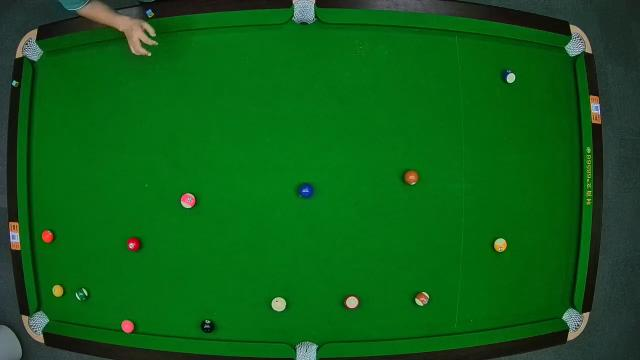bag1: (22, 40, 42, 62)
bag2: (292, 0, 316, 22)
bag3: (566, 34, 586, 54)
bag4: (30, 310, 48, 334)
bag5: (294, 338, 318, 360)
bag6: (564, 310, 584, 330)
ball0: (272, 296, 286, 312)
ball1: (52, 284, 64, 298)
ball10: (504, 68, 516, 84)
ball11: (344, 294, 361, 310)
ball12: (180, 192, 196, 209)
ball14: (75, 288, 88, 300)
ball15: (414, 290, 430, 308)
ball2: (298, 183, 314, 199)
ball3: (126, 237, 142, 251)
ball4: (120, 319, 136, 335)
ball5: (41, 228, 55, 244)
ball7: (403, 168, 419, 185)
ball8: (202, 319, 214, 333)
ball9: (493, 237, 507, 253)
